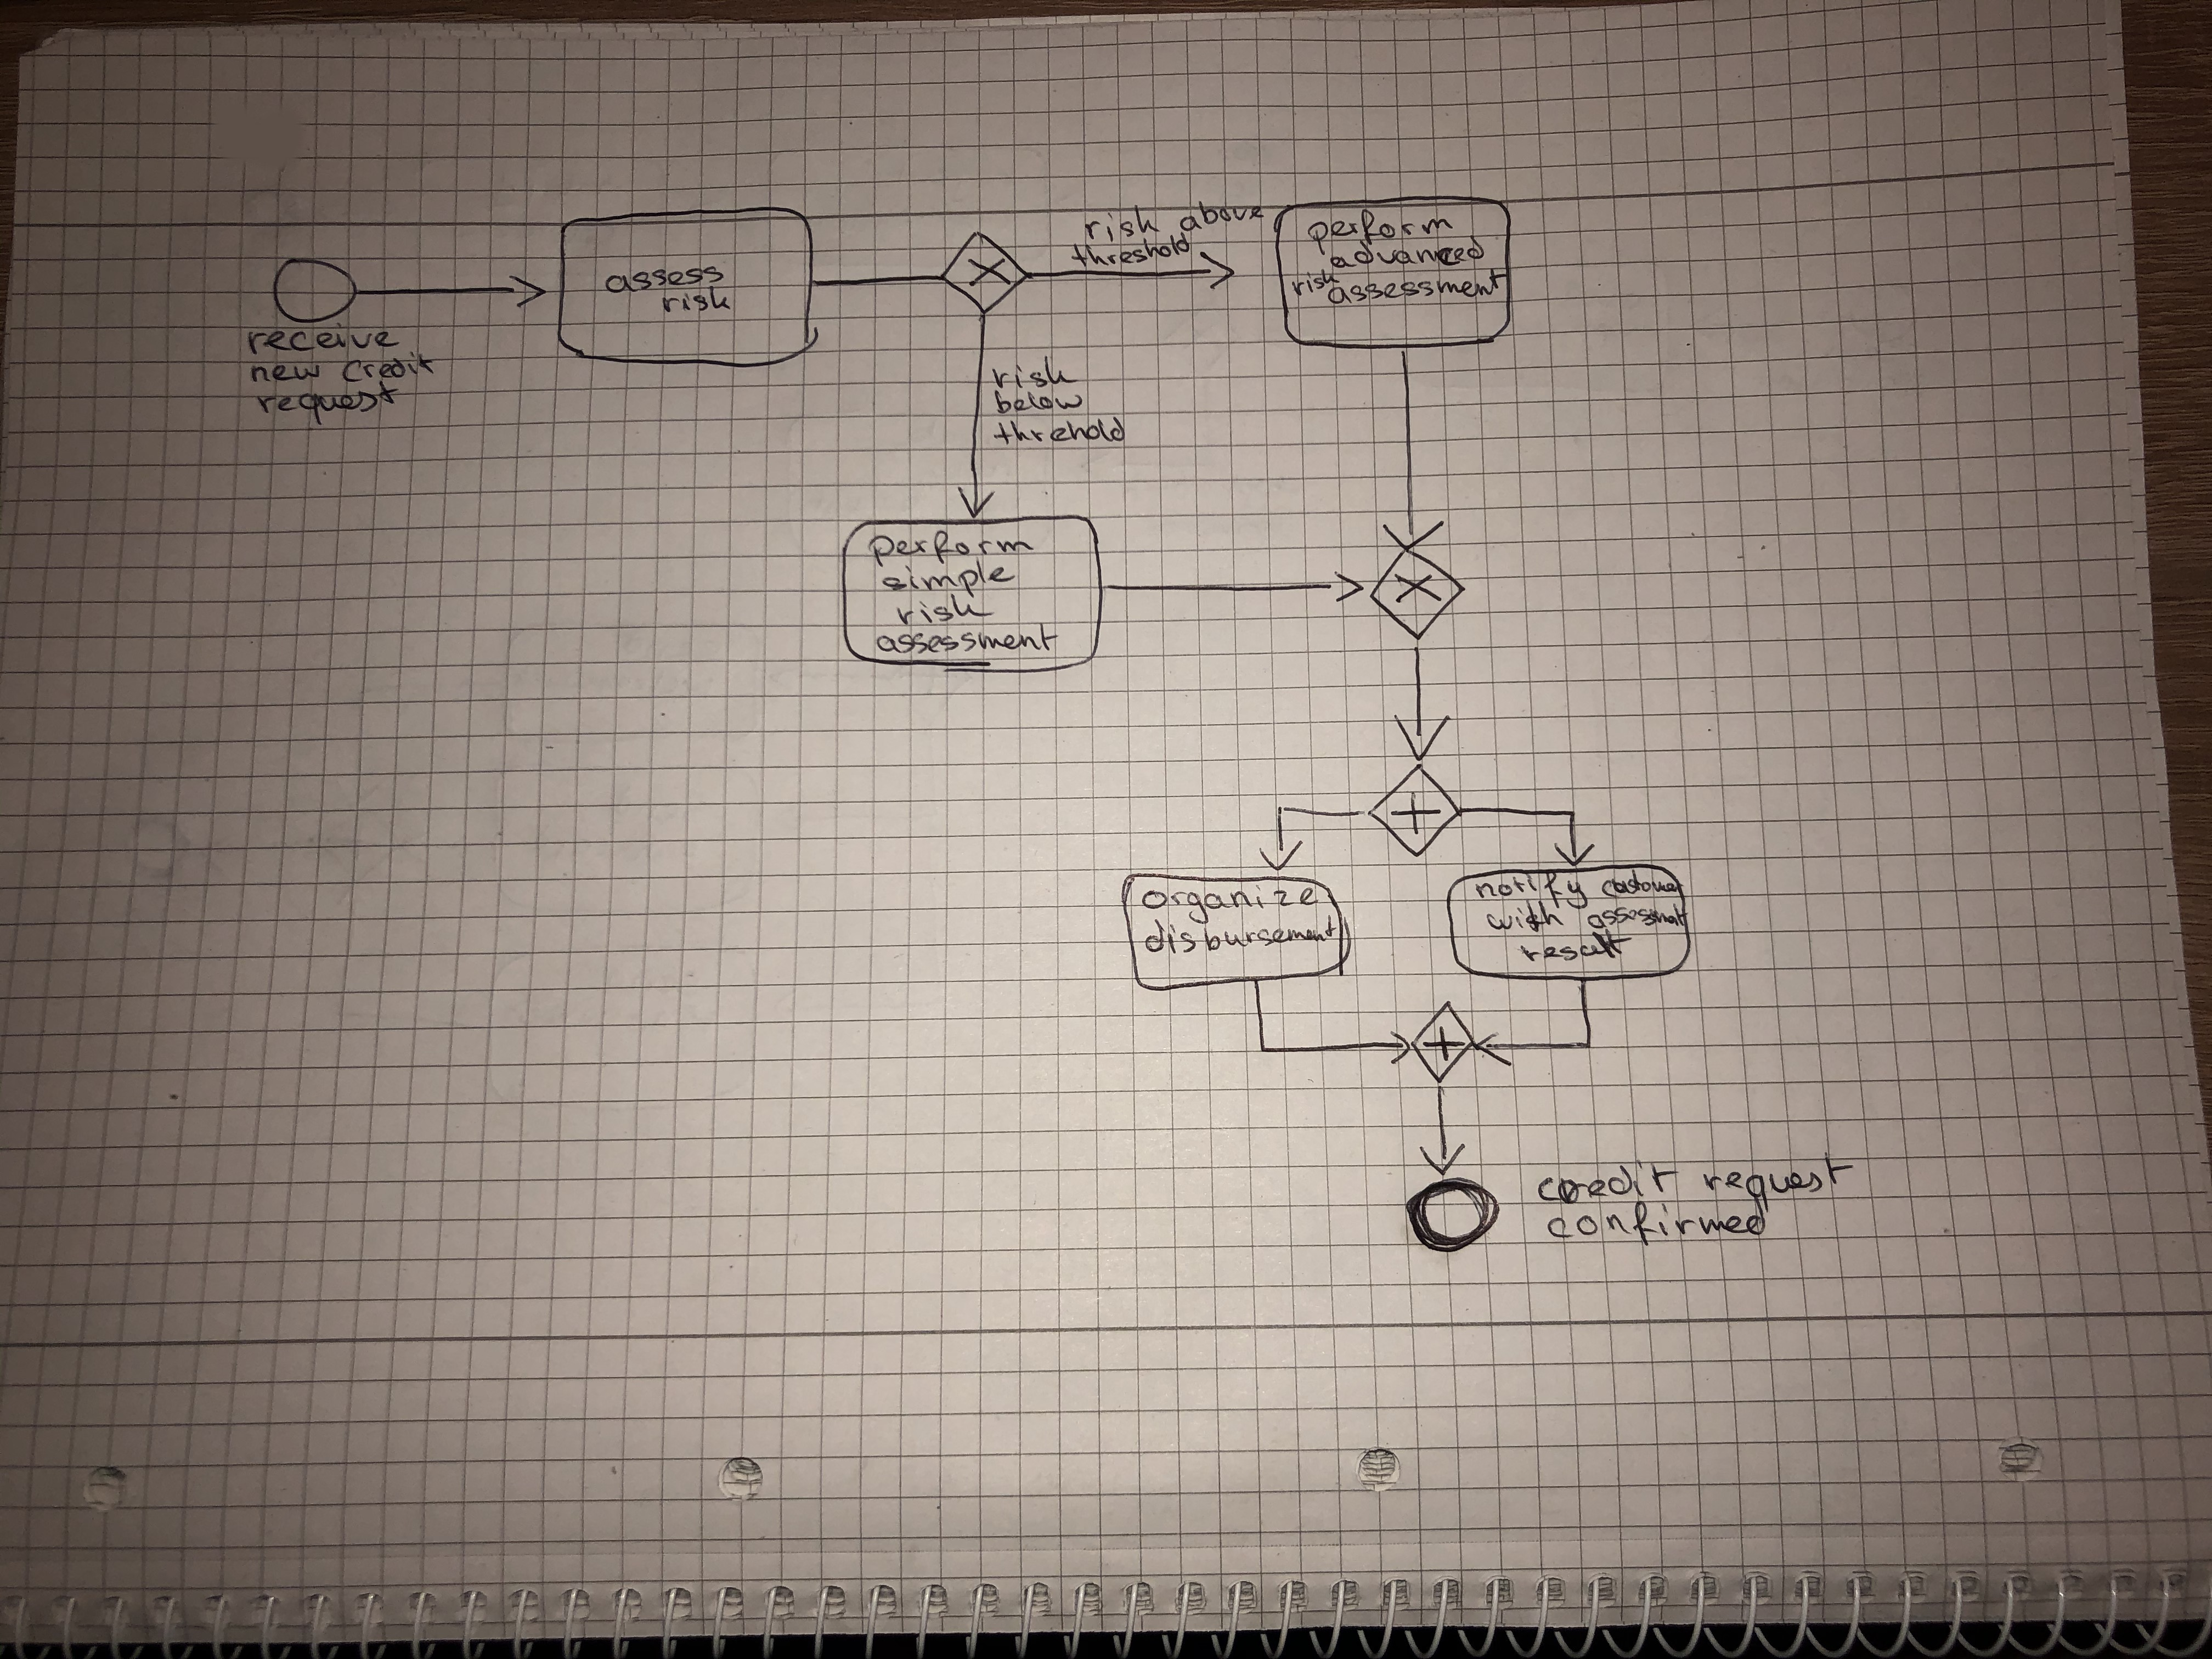Credit: (340, 347, 439, 385)
Perform: (864, 528, 1038, 572)
above: (1177, 197, 1268, 235)
advanced: (1327, 232, 1487, 270)
assess: (603, 263, 728, 296)
assessment: (1325, 267, 1508, 307), (873, 620, 1061, 657), (1583, 901, 1691, 932)
below: (991, 389, 1085, 418)
confirmed: (1543, 1195, 1770, 1249)
credit: (1534, 1155, 1683, 1209)
customer: (1597, 866, 1686, 901)
disbursement: (1141, 913, 1339, 957)
new: (247, 359, 324, 385)
notify: (1472, 868, 1590, 911)
organize: (1139, 882, 1322, 927)
perform: (1305, 206, 1456, 260)
receive: (244, 319, 404, 357)
request: (1698, 1148, 1858, 1216), (253, 380, 402, 429)
result: (1517, 925, 1635, 964)
rish: (1082, 202, 1163, 247)
risk: (894, 589, 998, 629), (989, 352, 1082, 392), (660, 284, 733, 315), (1289, 265, 1343, 298)
simple: (880, 556, 1019, 601)
threhold: (991, 416, 1127, 446)
threshold: (1068, 230, 1193, 270)
with: (1484, 897, 1568, 936)
